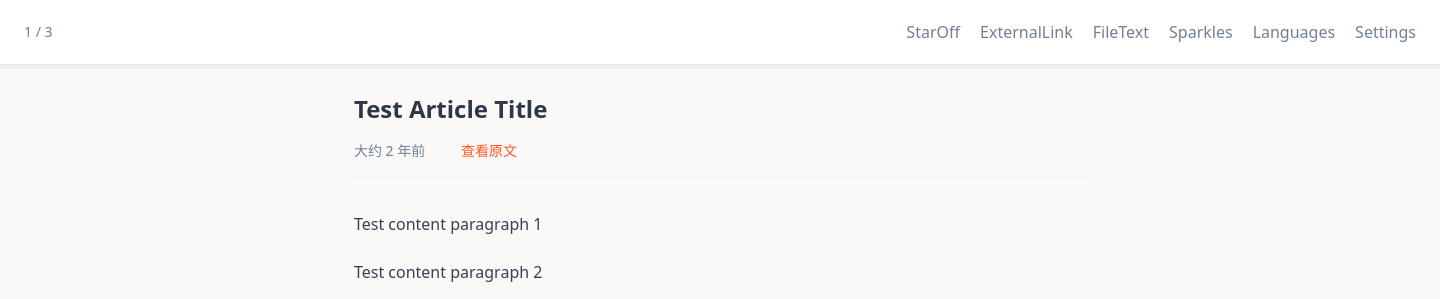
Test case: ArticleViewer › AI translation › should toggle translation on/off when already translated
Click the button titled "翻译文章" at (1294, 32), box [1245,12,1343,52]
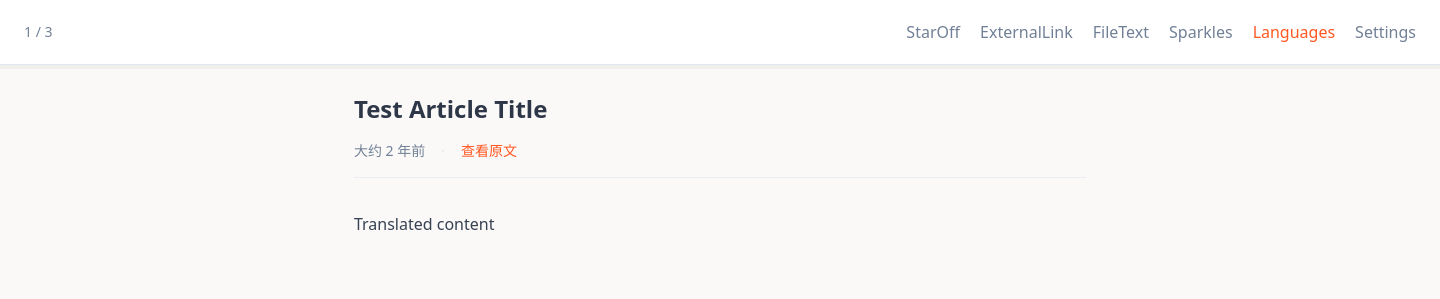
expect the text "Translated content" is shown: met, box [354,213,494,235]
# Click again to toggle off - should show original
Click the button titled "显示原文" at (1294, 32), box [1245,12,1343,52]
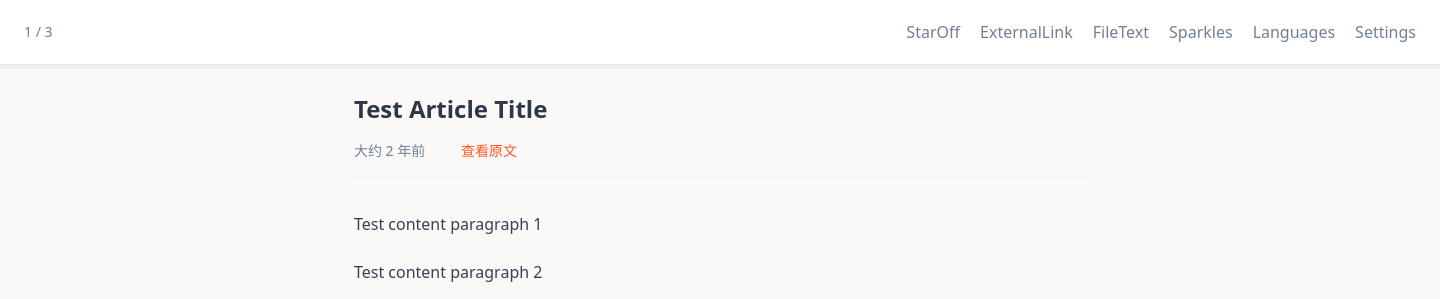
expect the text "Test content paragraph 1" is shown: met, box [354,213,542,235]
